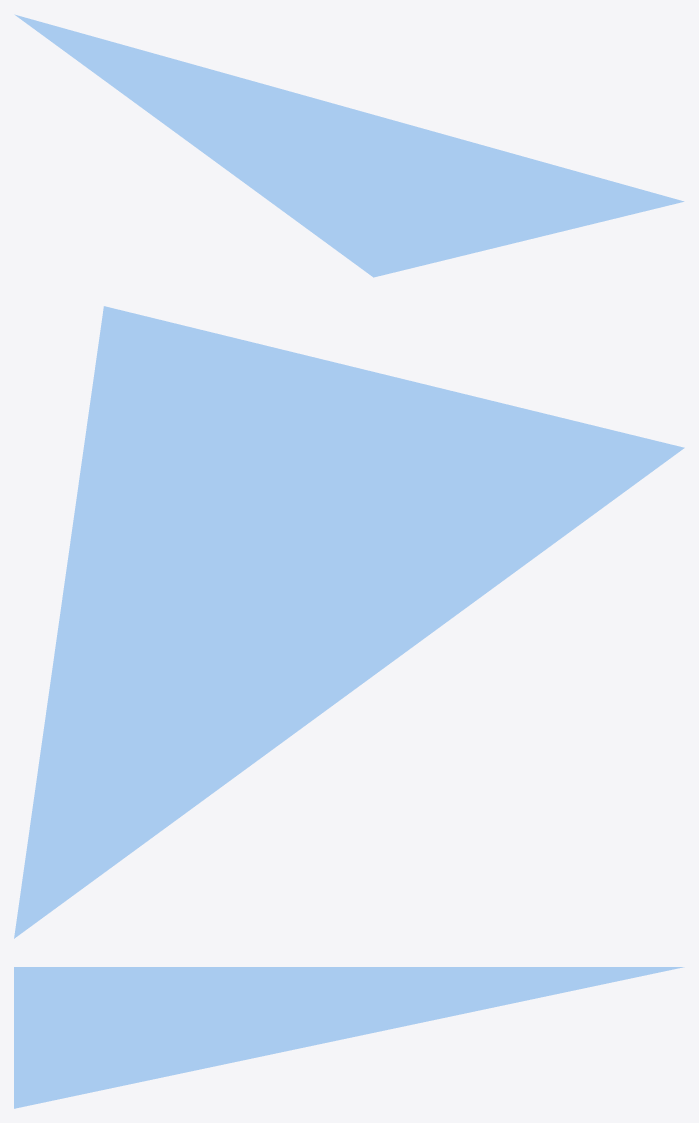
Rendered from panel.dae.
The picture shows the model from 3 angles, top to bottom: view 1: azimuth 30°, elevation 25°; view 2: azimuth 150°, elevation 25°; view 3: azimuth 270°, elevation 25°; orthographic projection. The views are drawn at different scales.
Parts seen in each view (by area): view 1: Panel; view 2: Panel; view 3: Panel.
Boxes of the visible parts, x1,y1,x2,y2 form: Panel: (15, 15, 683, 277); Panel: (14, 306, 683, 938); Panel: (14, 967, 682, 1108).
Size of the model in its own units: 10 by 20 by 0.
